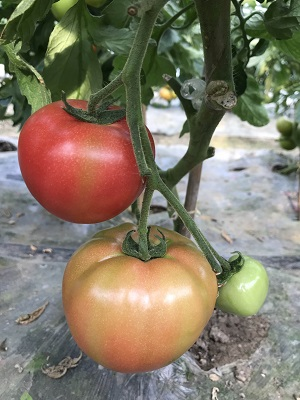immature-tomato: (218, 255, 269, 319)
mature-tomato: (18, 100, 155, 225)
semi-mature-tomato: (62, 223, 217, 375)
